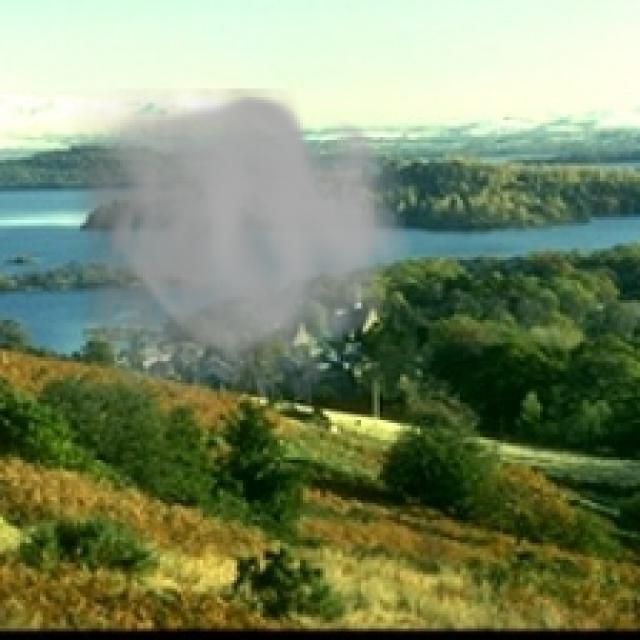Smoke: (59, 88, 412, 446)
